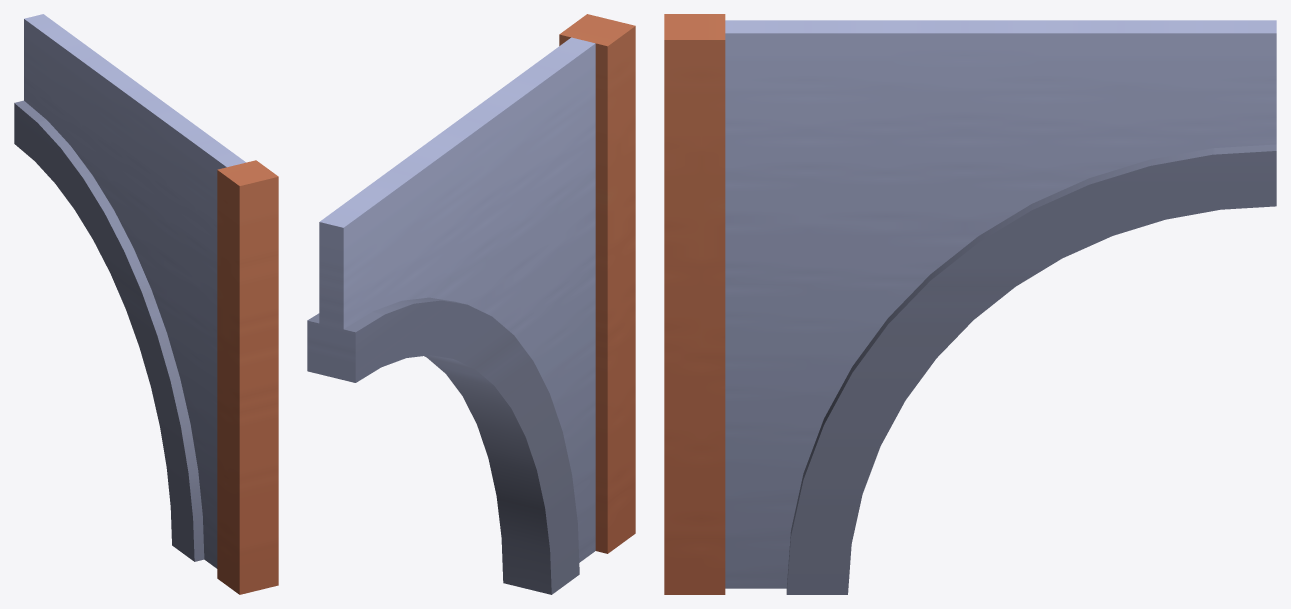
The model's file is wallArchTop.fbx.
The picture shows the model from 3 angles, left to right: view 1: azimuth 30°, elevation 25°; view 2: azimuth 150°, elevation 25°; view 3: azimuth 270°, elevation 25°; orthographic projection. The views are drawn at different scales.
Visible parts, largest first — view 1: wallArchTop; view 2: wallArchTop; view 3: wallArchTop.
Part boxes in pixels (<box>): wallArchTop: <box>14,14,278,594</box>; wallArchTop: <box>307,14,635,594</box>; wallArchTop: <box>664,14,1276,594</box>.
Bounding box in the file's own units: 0.1 × 1 × 1.
